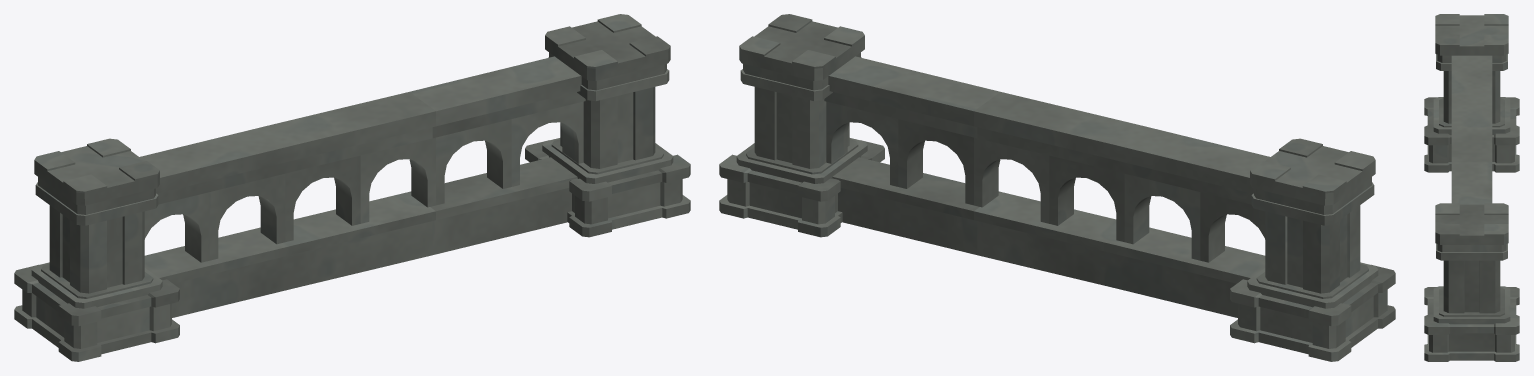
File: LowWall.fbx
3 renders of one model, left to right at view 1: azimuth 30°, elevation 25°; view 2: azimuth 150°, elevation 25°; view 3: azimuth 270°, elevation 25°, orthographic. The views are drawn at different scales.
Visible parts, largest first — view 1: LowWall.001; view 2: LowWall.001; view 3: LowWall.001.
Boxes of the visible parts, x1,y1,x2,y2 form: LowWall.001: (14, 14, 690, 361); LowWall.001: (719, 14, 1395, 361); LowWall.001: (1424, 14, 1519, 361).
Bounding box in the file's own units: 8.96 × 2.24 × 1.57.
Materials: 1 (1 with a texture image).
